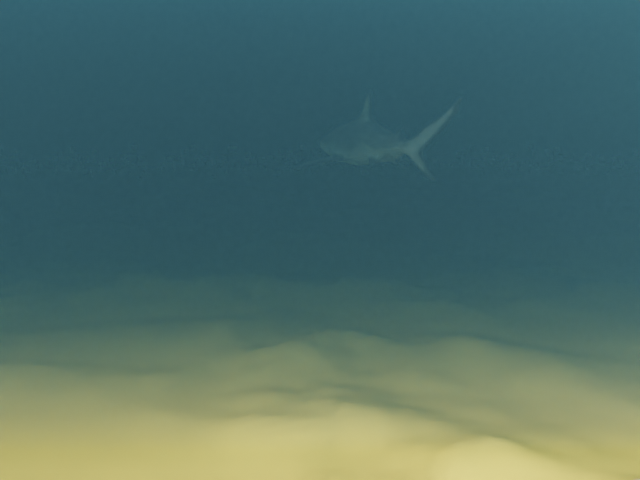Carribean Shark.001: (293, 91, 462, 180)
